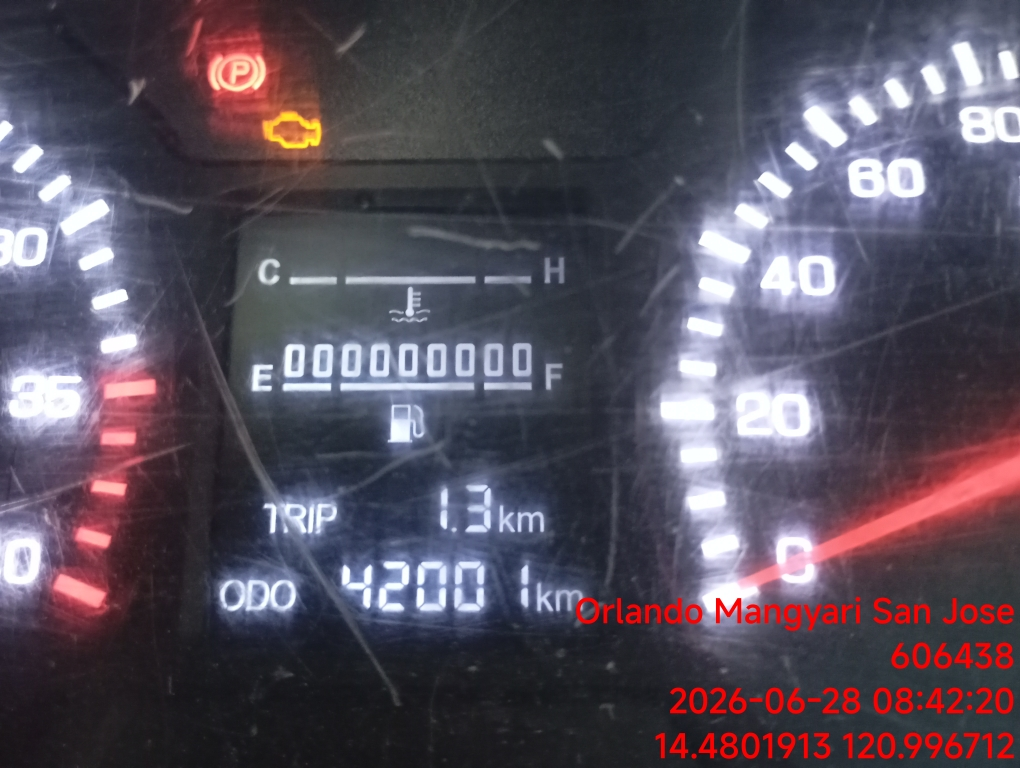grid_pose: (284, 121, 533, 390)
